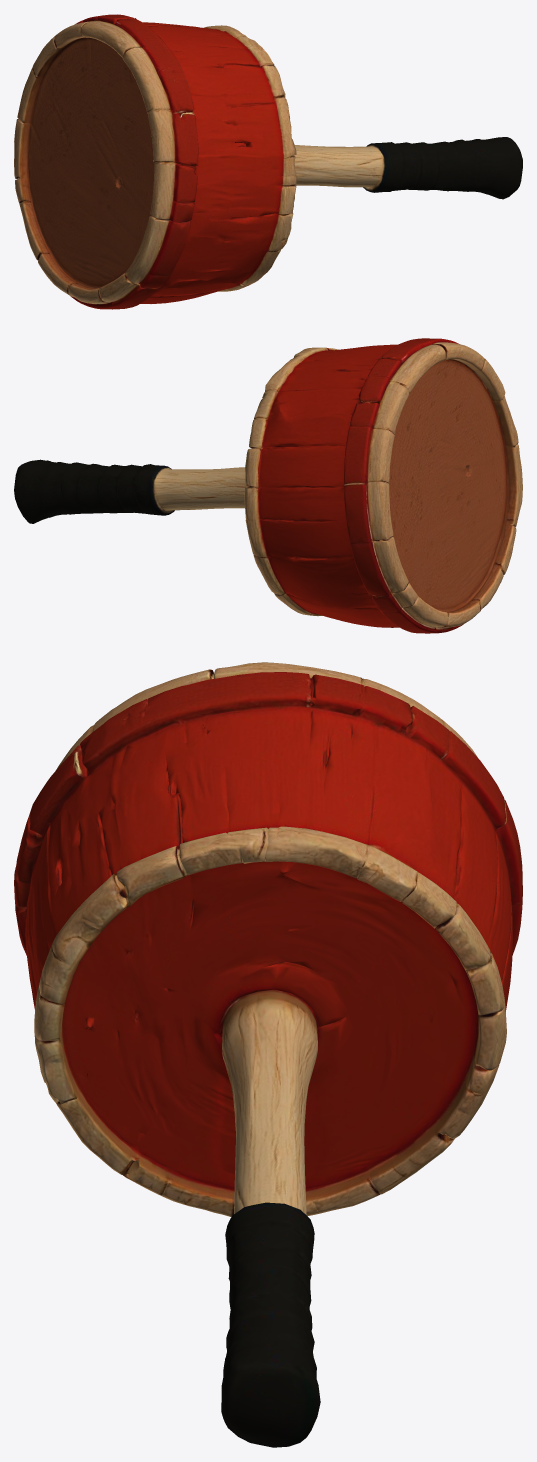
File: mallet.glb
3 views of the same model, one above another, from view 1: azimuth 30°, elevation 25°; view 2: azimuth 150°, elevation 25°; view 3: azimuth 270°, elevation 25° (orthographic). The views are drawn at different scales.
Parts seen in each view (by area): view 1: tripo_node_f54883ca-f367-468a-807b-824a3c03bde9; view 2: tripo_node_f54883ca-f367-468a-807b-824a3c03bde9; view 3: tripo_node_f54883ca-f367-468a-807b-824a3c03bde9.
Part boxes in pixels (bbox=[...]): tripo_node_f54883ca-f367-468a-807b-824a3c03bde9: bbox=[14, 14, 522, 309]; tripo_node_f54883ca-f367-468a-807b-824a3c03bde9: bbox=[14, 338, 522, 633]; tripo_node_f54883ca-f367-468a-807b-824a3c03bde9: bbox=[14, 662, 522, 1447].
Bounding box in the file's own units: 0.9801 × 0.5682 × 0.5439.
1 material, 1 textured.
